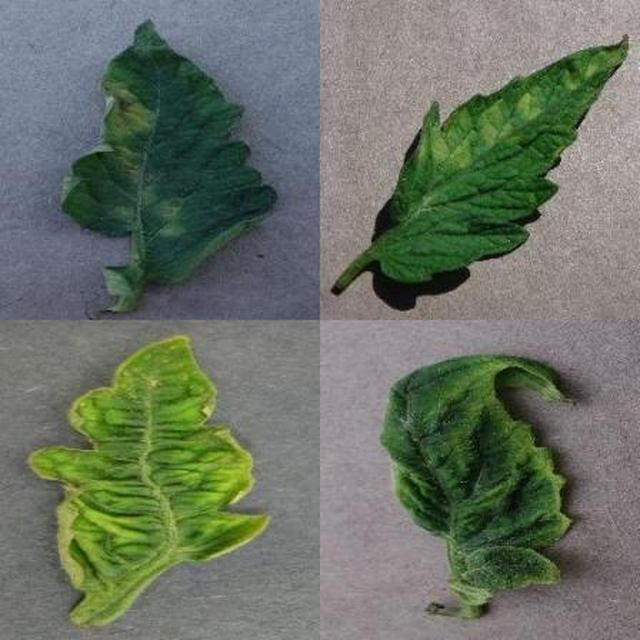Leaf Mold: (216, 216, 640, 640)
